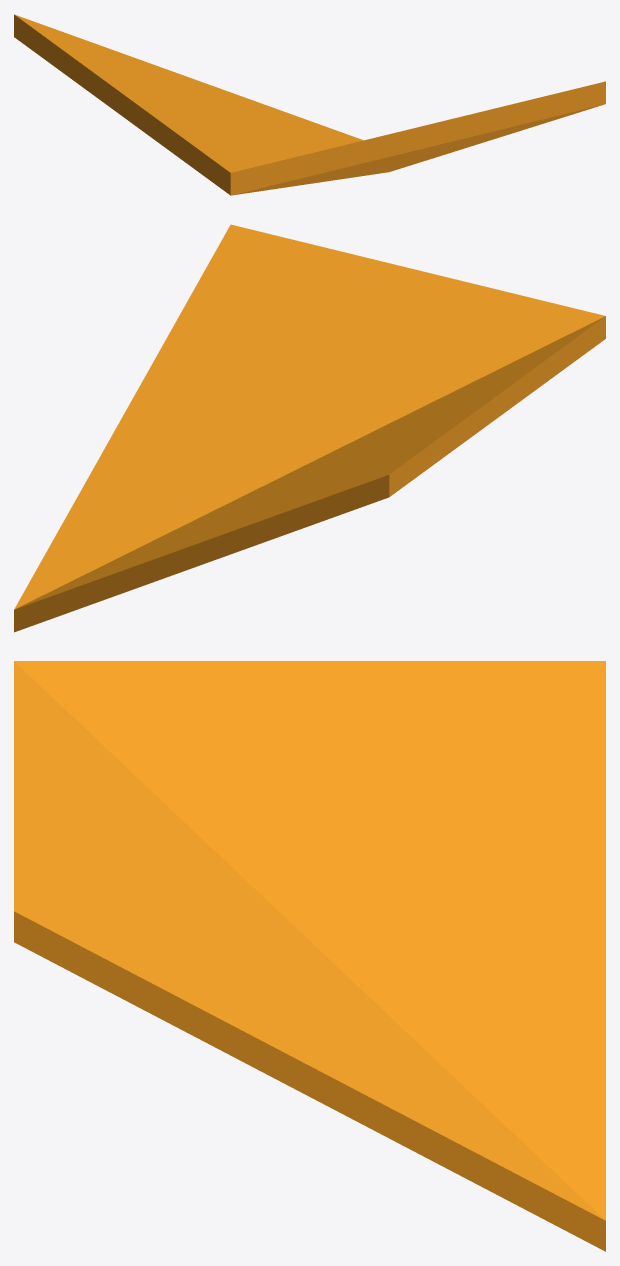
Rendered from SM_Buildings_RoofAngledCornerInner_2x2_01.fbx.
3 renders of one model, top to bottom at view 1: azimuth 30°, elevation 25°; view 2: azimuth 150°, elevation 25°; view 3: azimuth 270°, elevation 25°, orthographic. The views are drawn at different scales.
Parts seen in each view (by area): view 1: SM_Buildings_RoofAngledCornerInner_2x2_01; view 2: SM_Buildings_RoofAngledCornerInner_2x2_01; view 3: SM_Buildings_RoofAngledCornerInner_2x2_01.
Part boxes in pixels (x1=…): SM_Buildings_RoofAngledCornerInner_2x2_01: x1=14, y1=14, x2=605, y2=195; SM_Buildings_RoofAngledCornerInner_2x2_01: x1=14, y1=224, x2=605, y2=632; SM_Buildings_RoofAngledCornerInner_2x2_01: x1=14, y1=661, x2=605, y2=1251.
Bounding box in the file's own units: 200 × 127 × 200.
